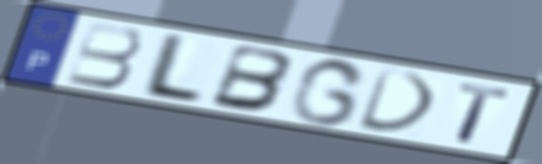B: (205, 42, 298, 114), (64, 20, 145, 90)
D: (354, 65, 441, 136)
G: (286, 56, 370, 128)
L: (135, 31, 209, 106)
T: (453, 81, 513, 146)
